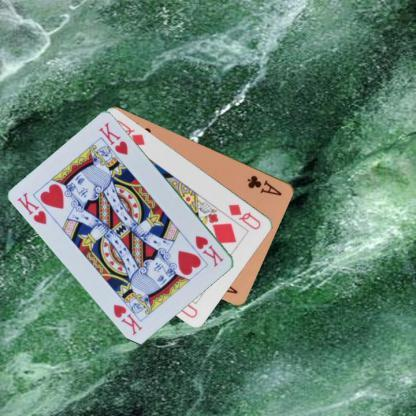Ac: (246, 172, 284, 197)
Kh: (14, 189, 48, 226), (192, 233, 225, 268)
Qd: (226, 201, 263, 231)
